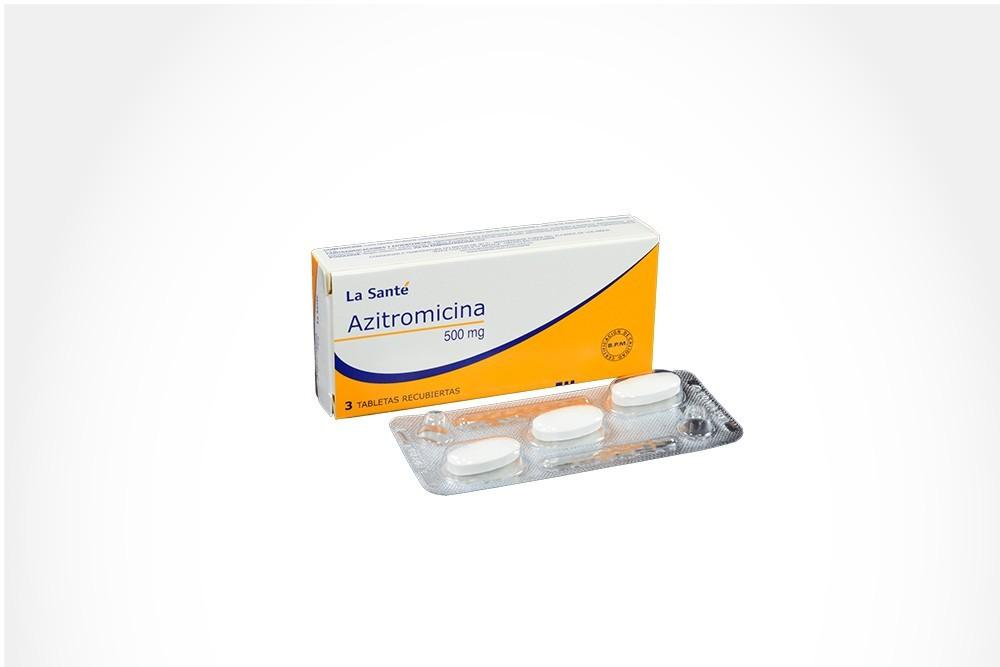LaSante: (339, 248, 651, 408)
